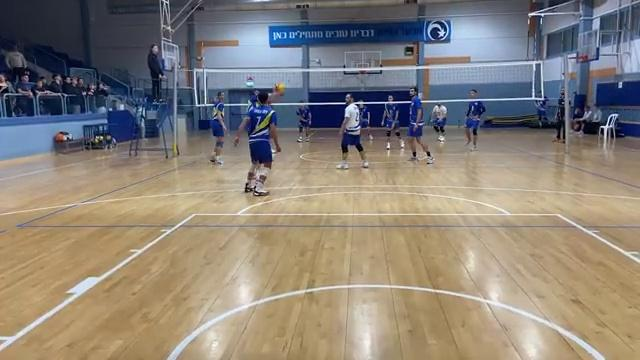ball: (269, 82, 289, 95)
